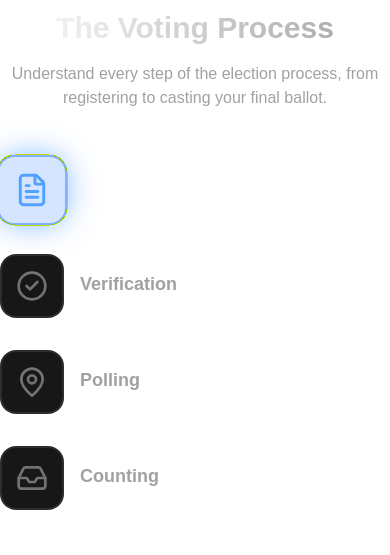
Test case: Roadmap Component › changes active step on click
This screenshot has width=390, height=555.
// Click on Verification step (using the first one found which should be the clickable item)
Click the button "Verification" at point(32, 286), box [0,254,177,366]
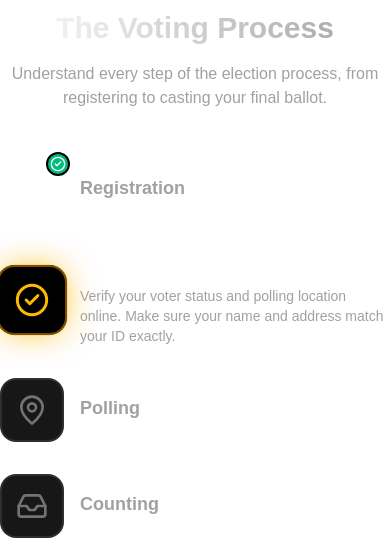
Expected: the text "Verify your voter status and polling location online" is shown, [80,288,384,344]
